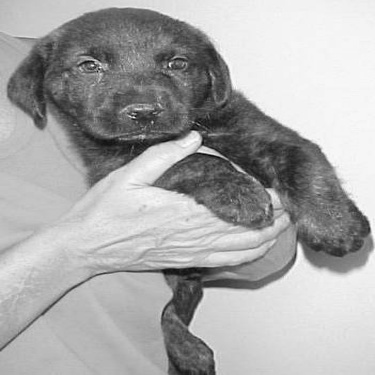dog: (10, 1, 371, 371)
